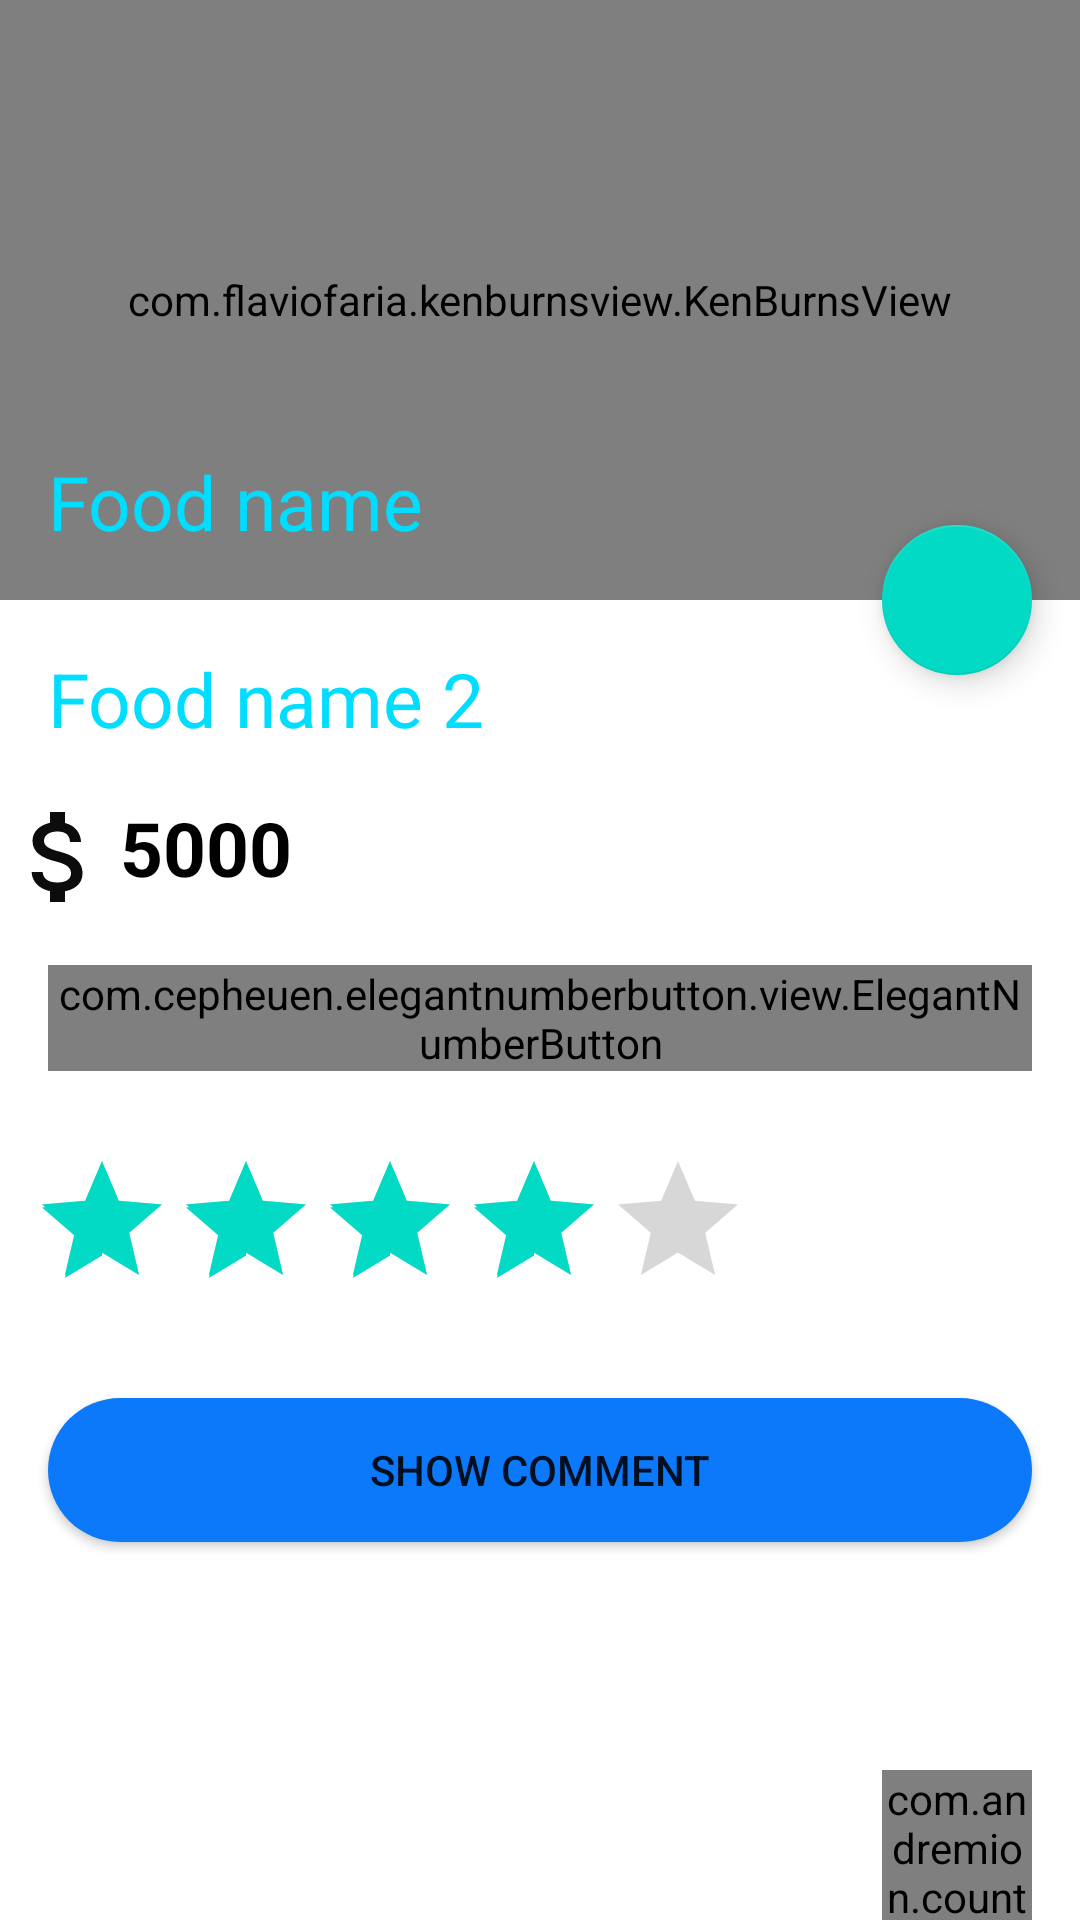

Where to tap for icons on this 1080*1920 app screen, as [x,y]:
money: [57,857]
